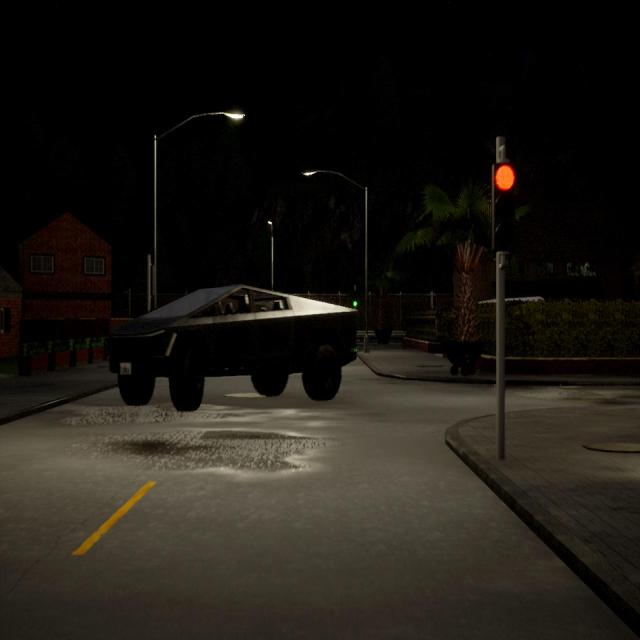Vehicle: (106, 287, 357, 412)
traffic_light: (491, 164, 521, 254), (146, 264, 156, 298), (353, 289, 359, 313)
